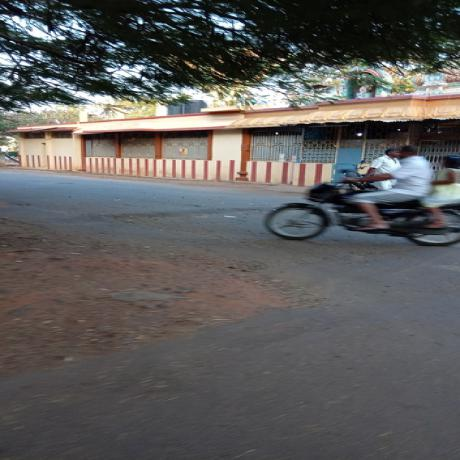Speed Bump: (12, 202, 301, 226)
